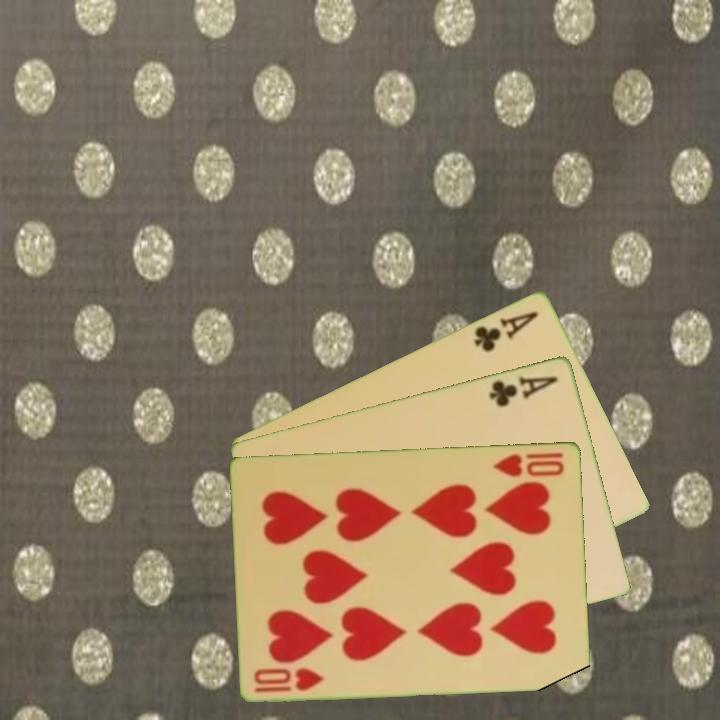10h: (491, 448, 567, 480), (251, 663, 327, 695)
Ac: (471, 307, 541, 355), (486, 372, 561, 410)
